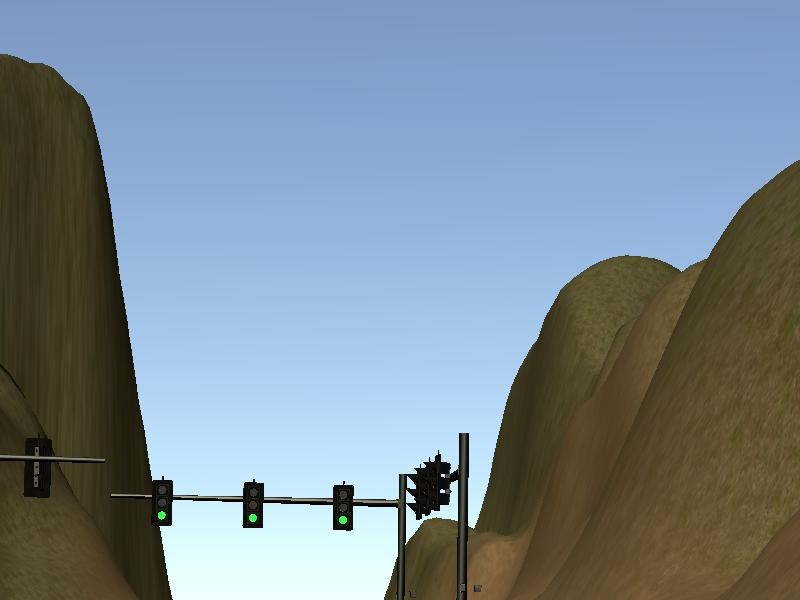green: (331, 484, 355, 530), (149, 480, 171, 526), (243, 483, 265, 529)
